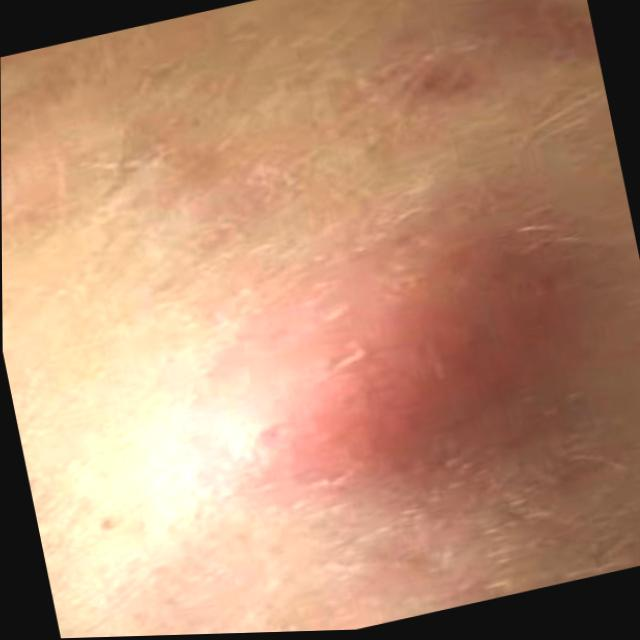nodule: (137, 193, 585, 541)
